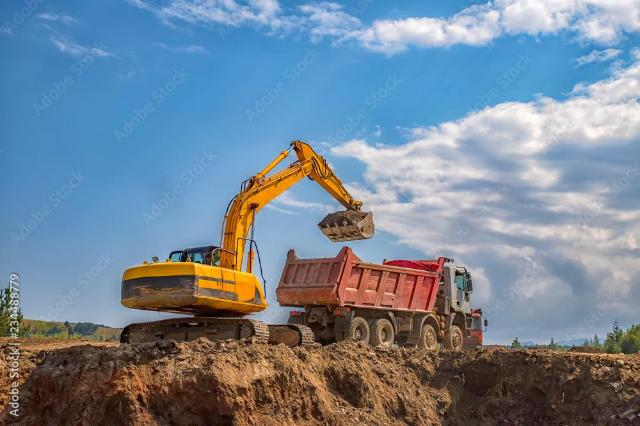truck: (290, 240, 475, 346)
